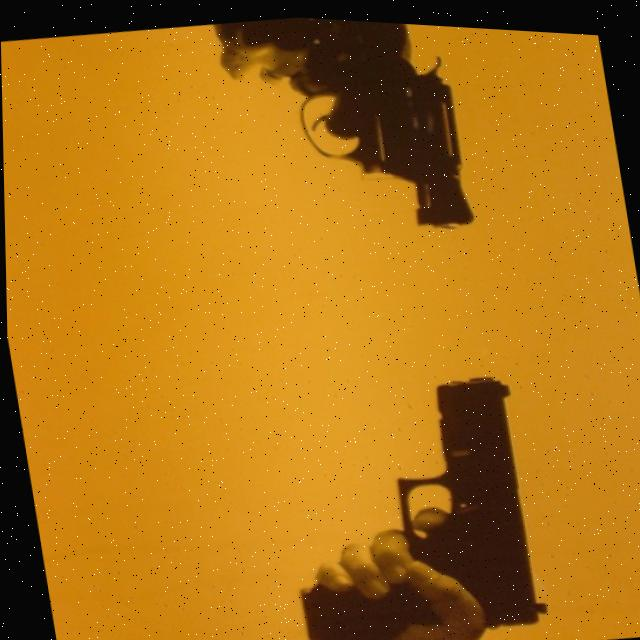pistol: (379, 361, 547, 637), (287, 36, 477, 244)
